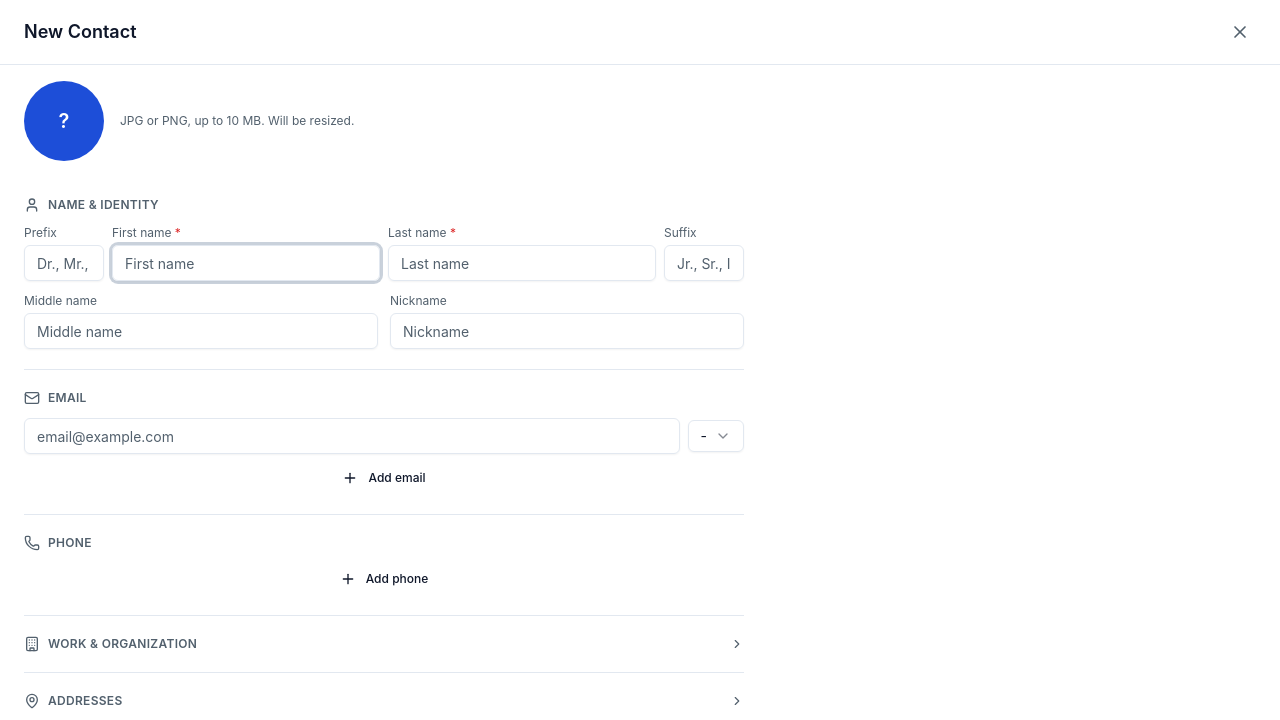
Test: ContactForm › adds phone entry when add button is clicked
Click the button "Add phone" at (384, 579), box x1=24 y1=563 x2=744 y2=595
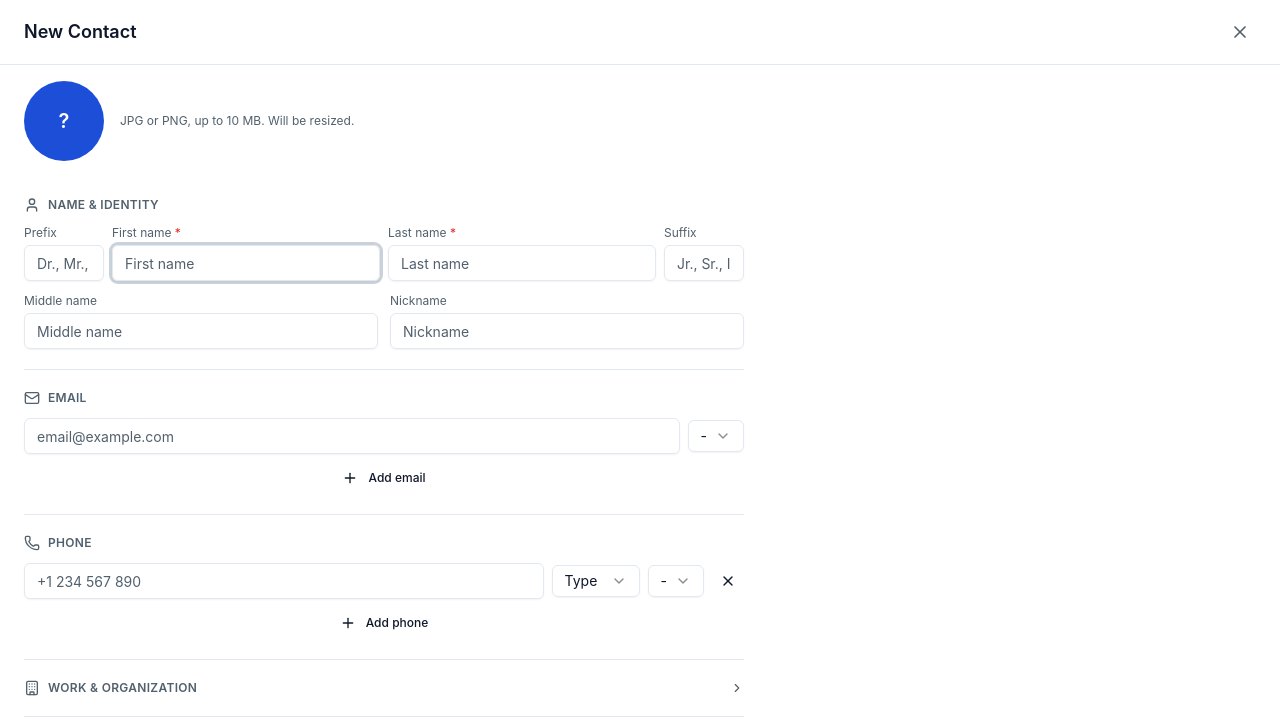
Result: the number of fields with placeholder "+1 234 567 890" is 1 at x1=24 y1=563 x2=544 y2=599
